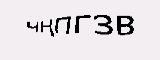Ң: (39, 17, 56, 38)
